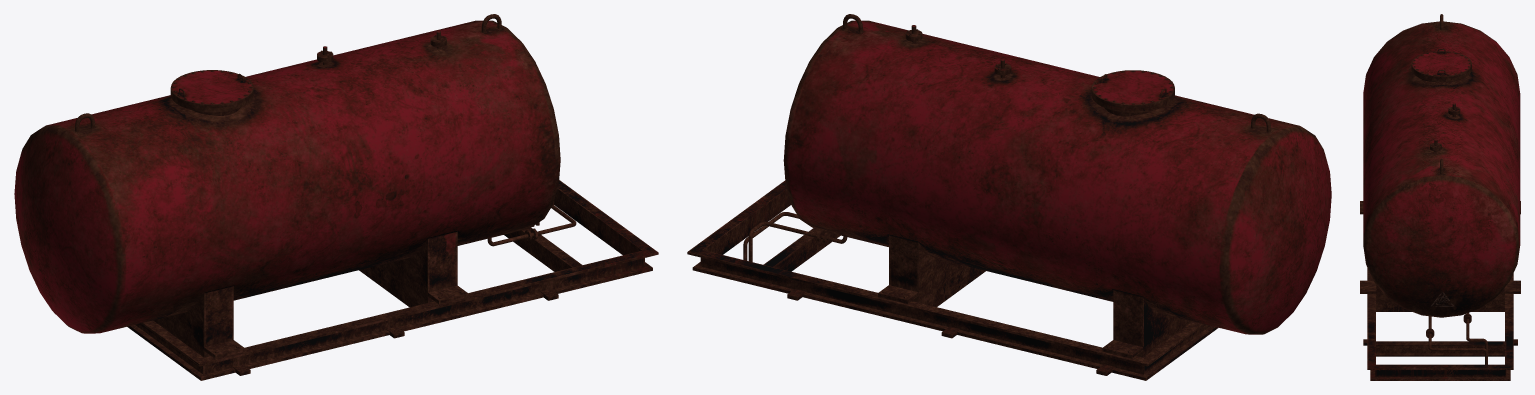
File: tank.obj
3 views of the same model, side by side, from view 1: azimuth 30°, elevation 25°; view 2: azimuth 150°, elevation 25°; view 3: azimuth 270°, elevation 25° (orthographic). The views are drawn at different scales.
Parts seen in each view (by area): view 1: Object002_Mesh.004; view 2: Object002_Mesh.004; view 3: Object002_Mesh.004.
Boxes of the visible parts, bbox=[...] form: Object002_Mesh.004: bbox=[14, 14, 658, 380]; Object002_Mesh.004: bbox=[687, 14, 1331, 380]; Object002_Mesh.004: bbox=[1360, 14, 1520, 380].
Bounding box in the file's own units: 5.19 × 2.22 × 1.76.
Materials: 1 (1 with a texture image).
